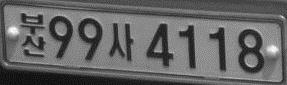1: (206, 26, 232, 70), (176, 24, 200, 68)
4: (146, 22, 174, 66)
8: (237, 28, 264, 74)
9: (77, 16, 103, 61), (48, 15, 74, 57)
부산_V: (19, 12, 47, 56)
사: (107, 23, 133, 62)
